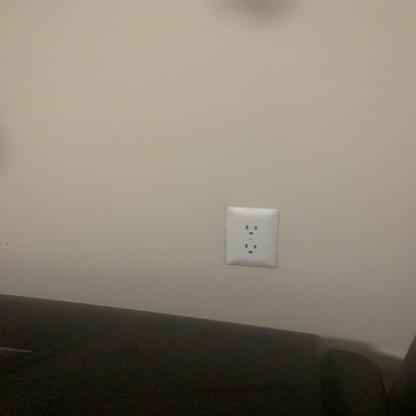OUTLET: (225, 207, 277, 268)
